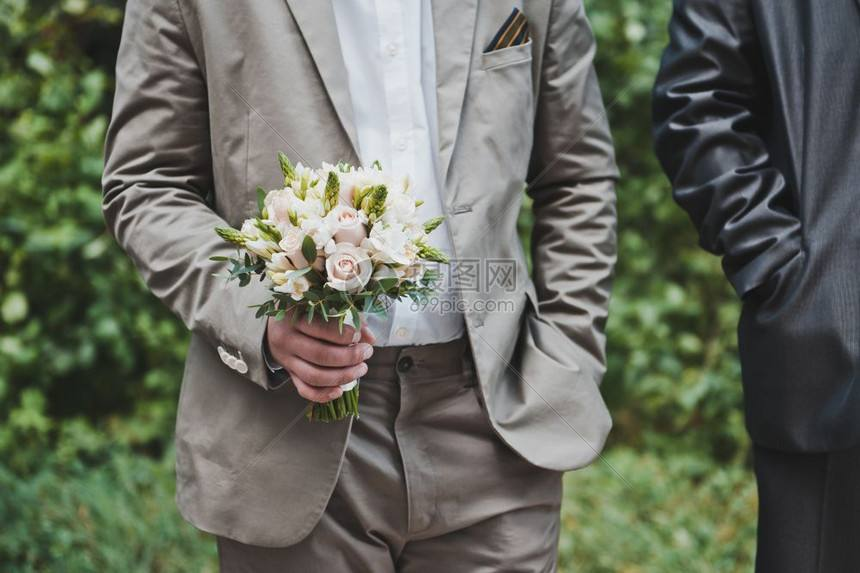no-phone: (257, 227, 410, 425)
